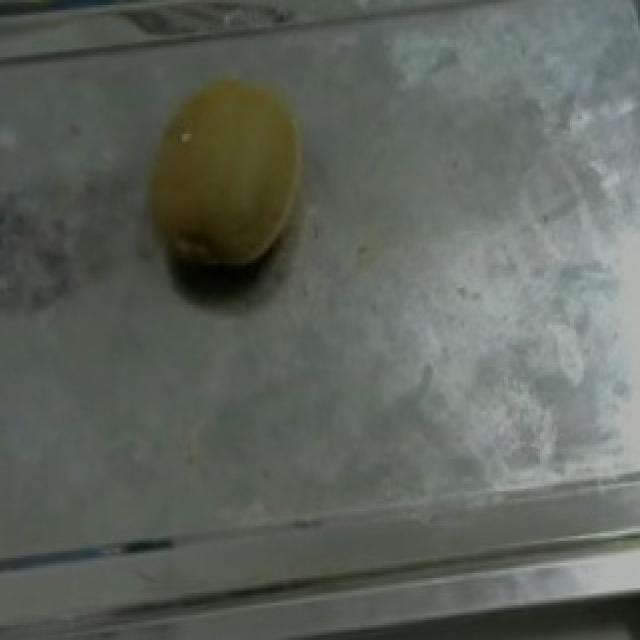Fruit: (126, 57, 326, 285)
